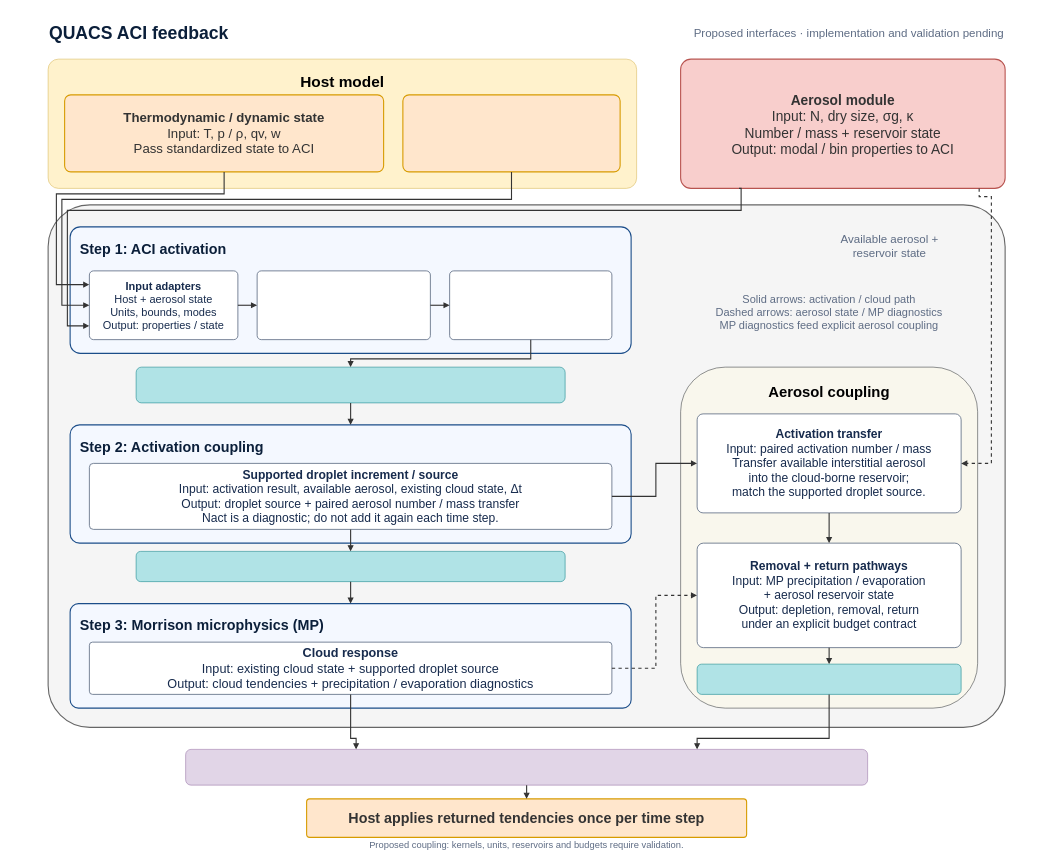
This 1054x861 diagram has some shape labels left out. The shapes that lost their labels are listed below. From the top down, each one's centre as x and y in pixels, then its label:
pixel 511 133: Cloud state + time step Existing cloud mass / number Δt + caller conventions
pixel 343 305: Supersaturation T, p / ρ, qv, w + aerosol distribution Output: Smax
pixel 530 305: Activation result Smax + aerosol properties Output: Nact + activated fractions
pixel 350 385: Output: Smax, Nact, activated fractions
pixel 350 566: Output: cloud source + paired aerosol transfer
pixel 829 679: Output: aerosol tendencies
pixel 526 767: Output: cloud tendencies + aerosol tendencies + diagnostics
